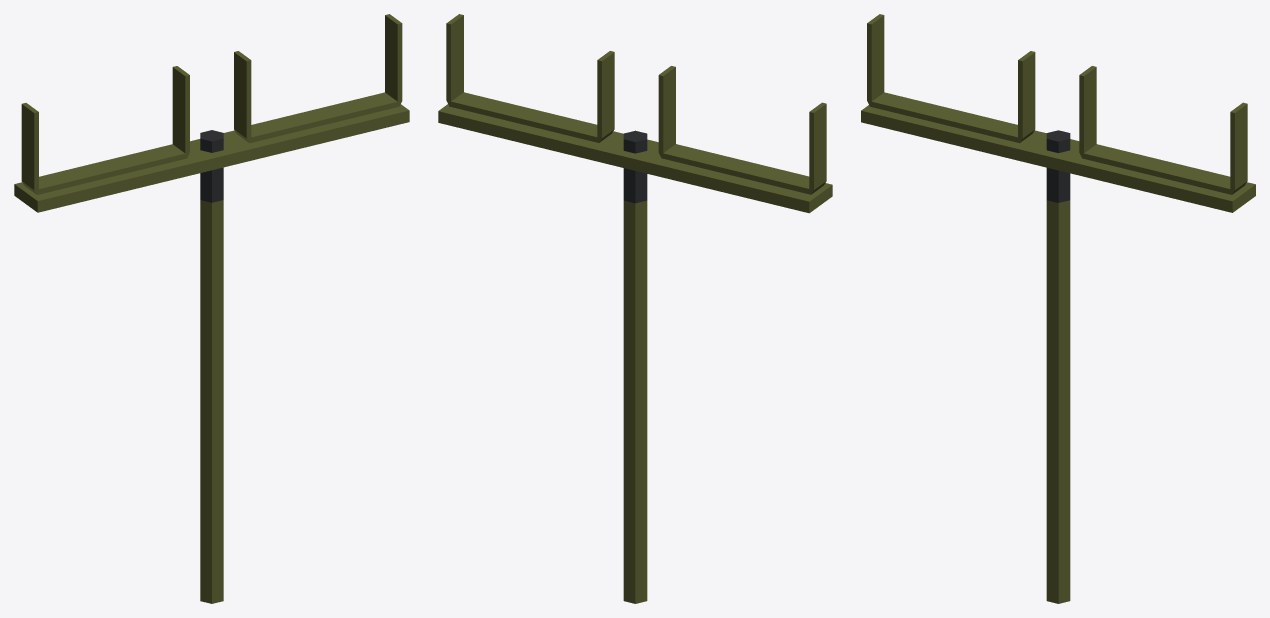
File: SM_Prop_Light_Portable_Pole_01.fbx
3 views of the same model, side by side, from view 1: azimuth 30°, elevation 25°; view 2: azimuth 150°, elevation 25°; view 3: azimuth 330°, elevation 25° (orthographic).
Parts seen in each view (by area): view 1: SM_Prop_Light_Portable_Pole_01; view 2: SM_Prop_Light_Portable_Pole_01; view 3: SM_Prop_Light_Portable_Pole_01.
Part boxes in pixels (x1=…): SM_Prop_Light_Portable_Pole_01: x1=14, y1=14, x2=409, y2=603; SM_Prop_Light_Portable_Pole_01: x1=438, y1=14, x2=832, y2=603; SM_Prop_Light_Portable_Pole_01: x1=861, y1=14, x2=1255, y2=603.
Bounding box in the file's own units: 62.7 × 86.26 × 6.81.
